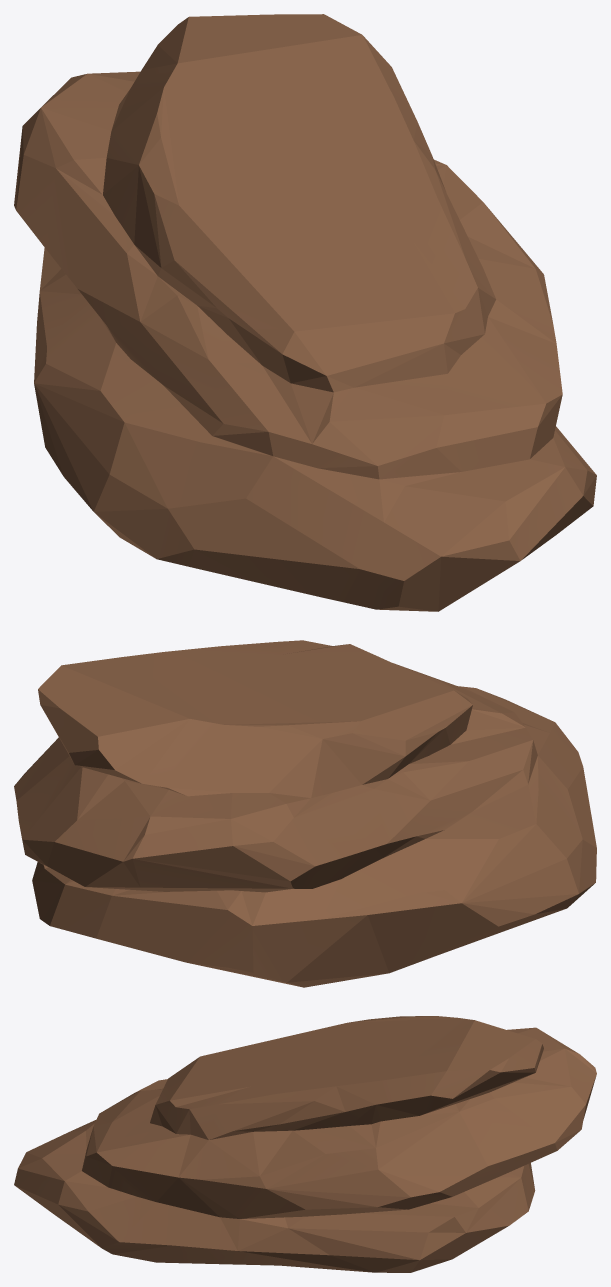
Rendered from SM_Env_Rock_Large_01.obj.
3 views of the same model, one above another, from view 1: azimuth 30°, elevation 25°; view 2: azimuth 150°, elevation 25°; view 3: azimuth 270°, elevation 25° (orthographic). The views are drawn at different scales.
Visible parts, largest first — view 1: SM_Env_Rock_Large_01_0; view 2: SM_Env_Rock_Large_01_0; view 3: SM_Env_Rock_Large_01_0.
Boxes of the visible parts, bbox=[...] form: SM_Env_Rock_Large_01_0: bbox=[14, 14, 596, 611]; SM_Env_Rock_Large_01_0: bbox=[14, 640, 596, 987]; SM_Env_Rock_Large_01_0: bbox=[14, 1016, 596, 1272].
Size of the model in its own units: 4 by 2.48 by 6.16.
Materials: 1 (1 with a texture image).
